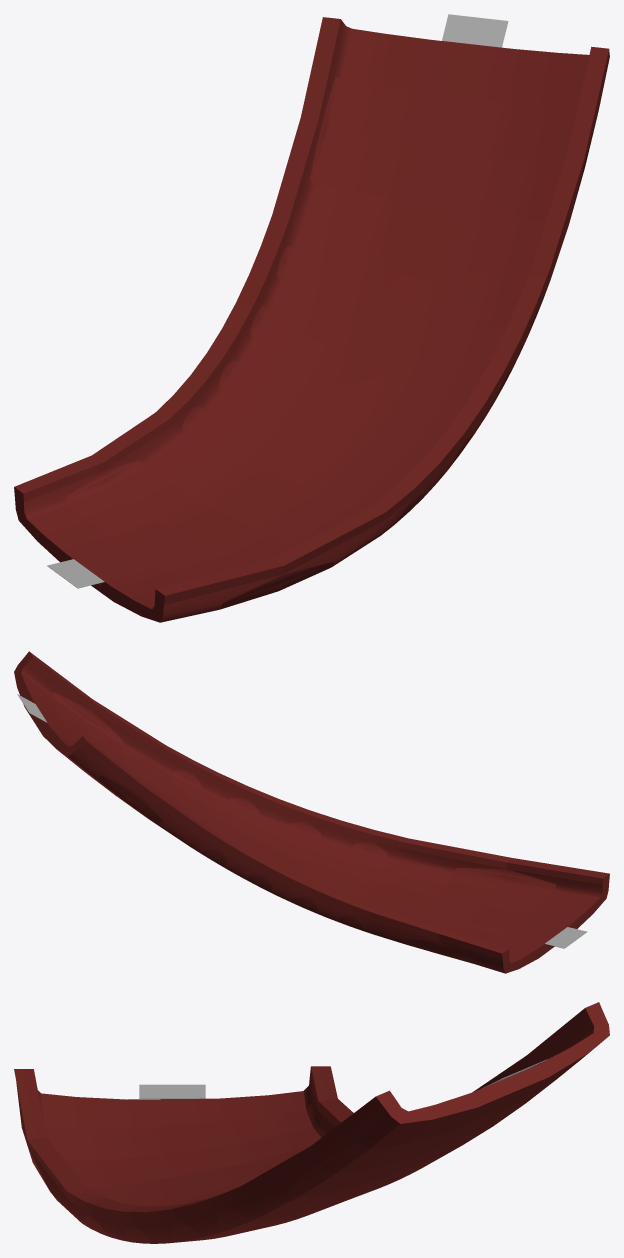
The model's file is 45UpLeft.fbx.
3 renders of one model, top to bottom at view 1: azimuth 30°, elevation 25°; view 2: azimuth 150°, elevation 25°; view 3: azimuth 270°, elevation 25°, orthographic. The views are drawn at different scales.
Parts seen in each view (by area): view 1: pPipe3, pasted__pasted__pCube48, pasted__pasted__pCube3; view 2: pPipe3, pasted__pasted__pCube3; view 3: pPipe3, pasted__pasted__pCube3.
Boxes of the visible parts, x1,y1,x2,y2 form: pPipe3: (14,17,609,622); pasted__pasted__pCube48: (442,14,508,47); pasted__pasted__pCube3: (47,559,104,588); pPipe3: (14,651,609,973); pasted__pasted__pCube3: (545,927,587,948); pPipe3: (14,1002,609,1243); pasted__pasted__pCube3: (139,1084,205,1098).
Size of the model in its own units: 24.19 by 11.27 by 17.95.
